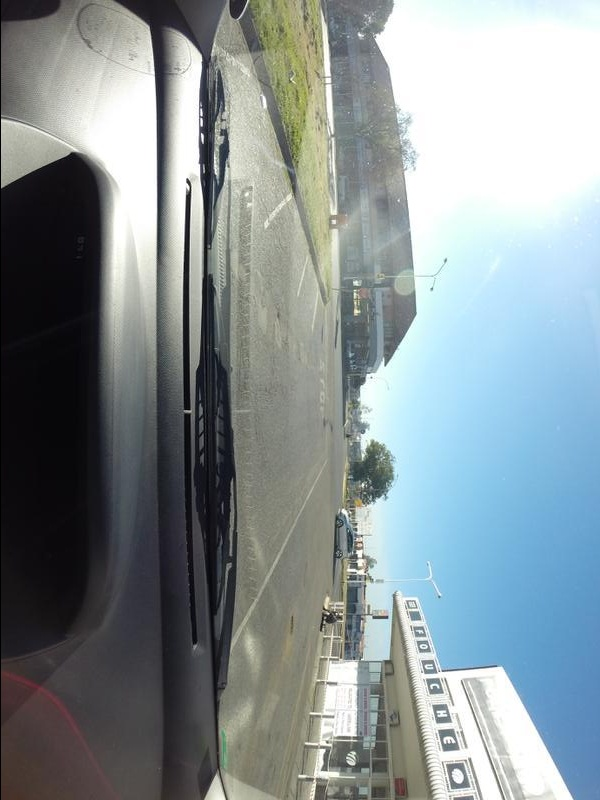pothole: (272, 312, 286, 345), (290, 617, 298, 641)
